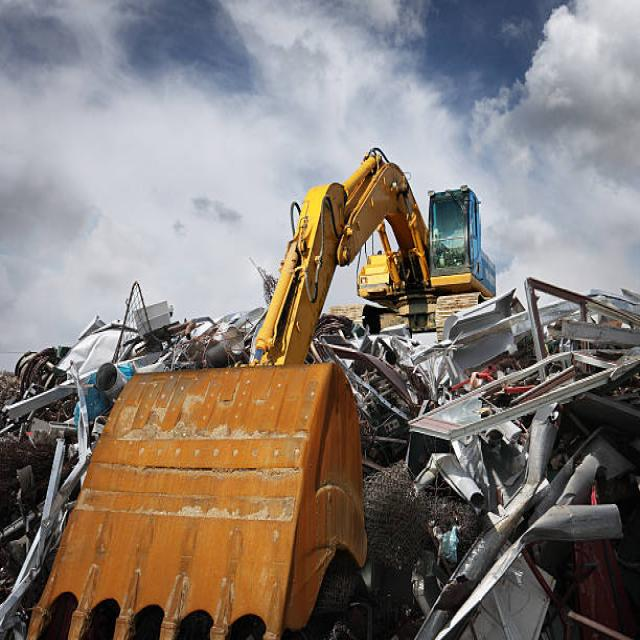metal: (410, 328, 553, 496), (402, 519, 584, 628), (15, 344, 119, 403)
